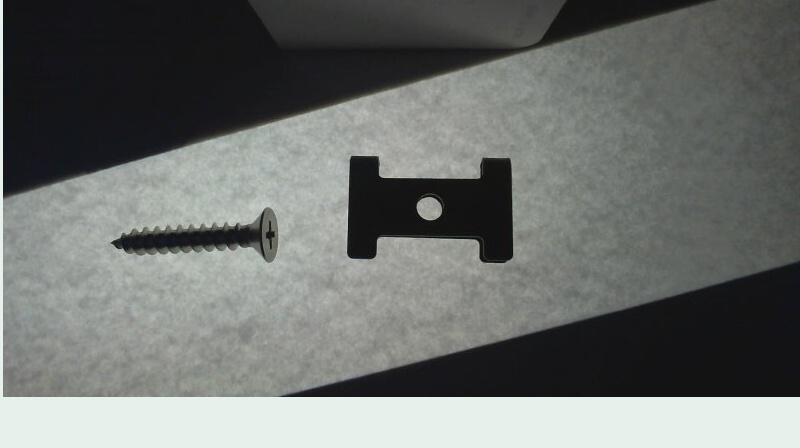O002: (341, 149, 515, 267)
S001: (105, 207, 281, 266)
